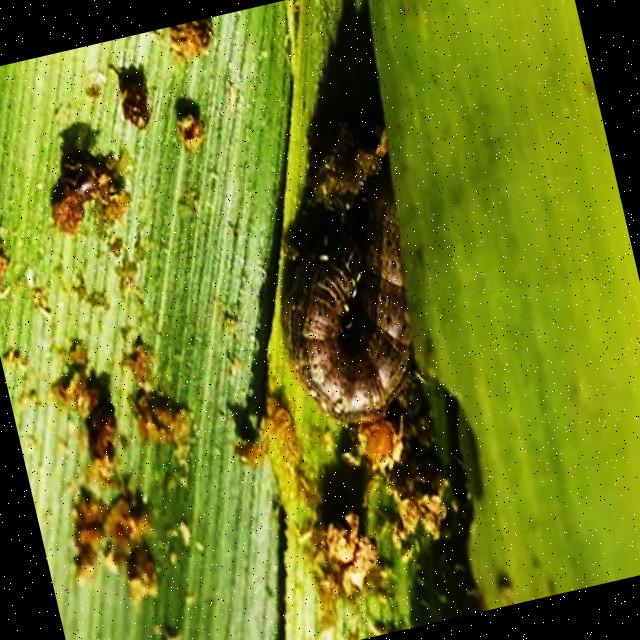worm: (236, 110, 452, 442)
